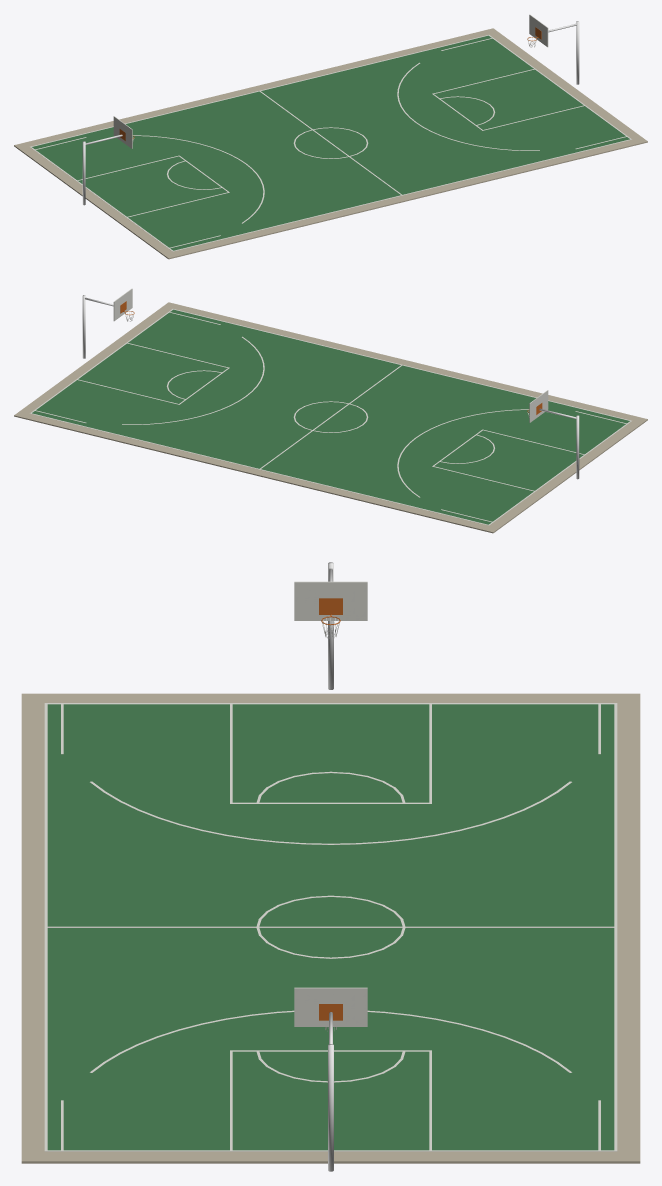
File: hood_court_basketball.glb
3 renders of one model, top to bottom at view 1: azimuth 30°, elevation 25°; view 2: azimuth 150°, elevation 25°; view 3: azimuth 270°, elevation 25°, orthographic. The views are drawn at different scales.
Parts seen in each view (by area): view 1: paint, slab, board.012, arm.013; view 2: paint, slab, board.012, arm.013; view 3: paint, slab, board.012, arm.013.
Boxes of the visible parts, left/top/right/bottom form: paint: left=32, top=35, right=629, bottom=250; slab: left=14, top=28, right=647, bottom=259; board.012: left=30, top=14, right=631, bottom=251; arm.013: left=82, top=21, right=579, bottom=205; paint: left=32, top=309, right=629, bottom=524; slab: left=14, top=302, right=647, bottom=533; board.012: left=30, top=288, right=631, bottom=525; arm.013: left=82, top=295, right=579, bottom=479; paint: left=47, top=704, right=614, bottom=1150; slab: left=21, top=693, right=640, bottom=1163; board.012: left=44, top=581, right=617, bottom=1151; arm.013: left=328, top=562, right=333, bottom=1171.
Bounding box in the file's own units: 28.15 × 3.92 × 15.2.
